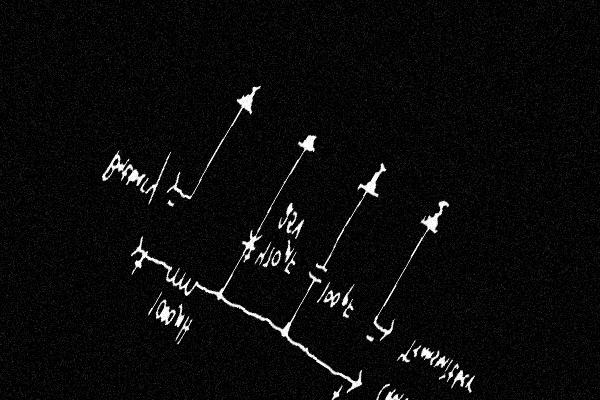capacitor: (300, 249, 336, 294), (235, 221, 268, 260)
ground: (348, 152, 397, 215), (411, 189, 456, 247), (225, 74, 268, 126), (289, 126, 324, 166)
inductor: (157, 259, 205, 305)
